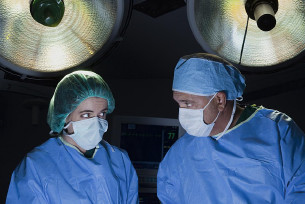face_mask: (173, 82, 219, 137), (67, 95, 112, 148)
